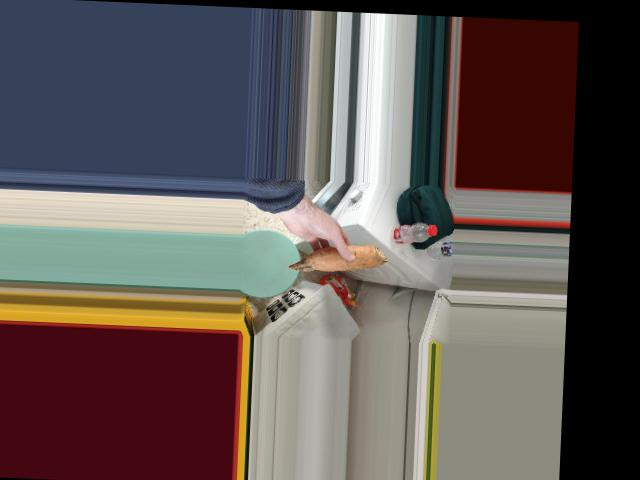sweet_potato: (286, 242, 381, 274)
